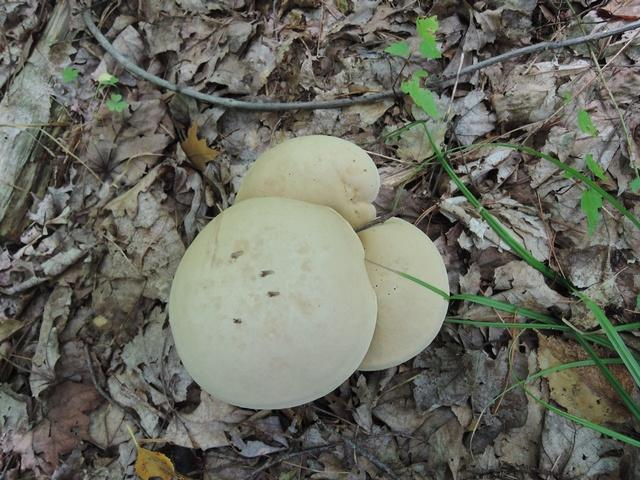Edible Mushroom: (167, 140, 450, 410)
